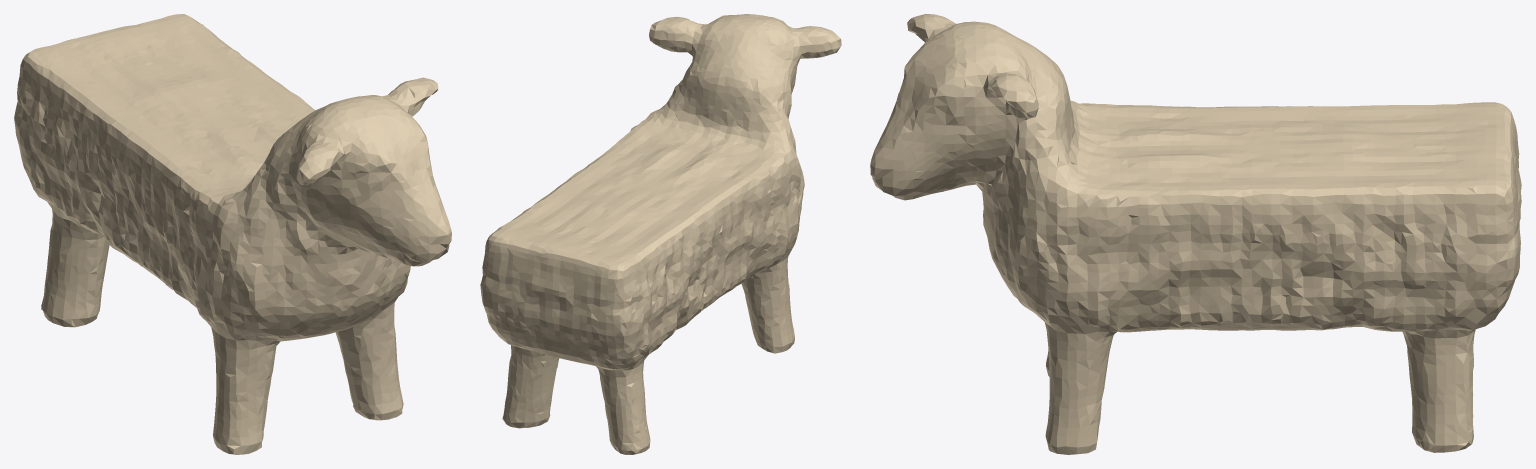
Rendered from sau-04.glb.
3 renders of one model, left to right at view 1: azimuth 30°, elevation 25°; view 2: azimuth 150°, elevation 25°; view 3: azimuth 270°, elevation 25°, orthographic. The views are drawn at different scales.
Visible parts, largest first — view 1: sau-04; view 2: sau-04; view 3: sau-04.
Boxes of the visible parts, bbox=[...] form: sau-04: bbox=[14, 14, 451, 454]; sau-04: bbox=[480, 14, 841, 454]; sau-04: bbox=[870, 14, 1521, 454].
Bounding box in the file's own units: 37.52 × 63.11 × 97.32.
